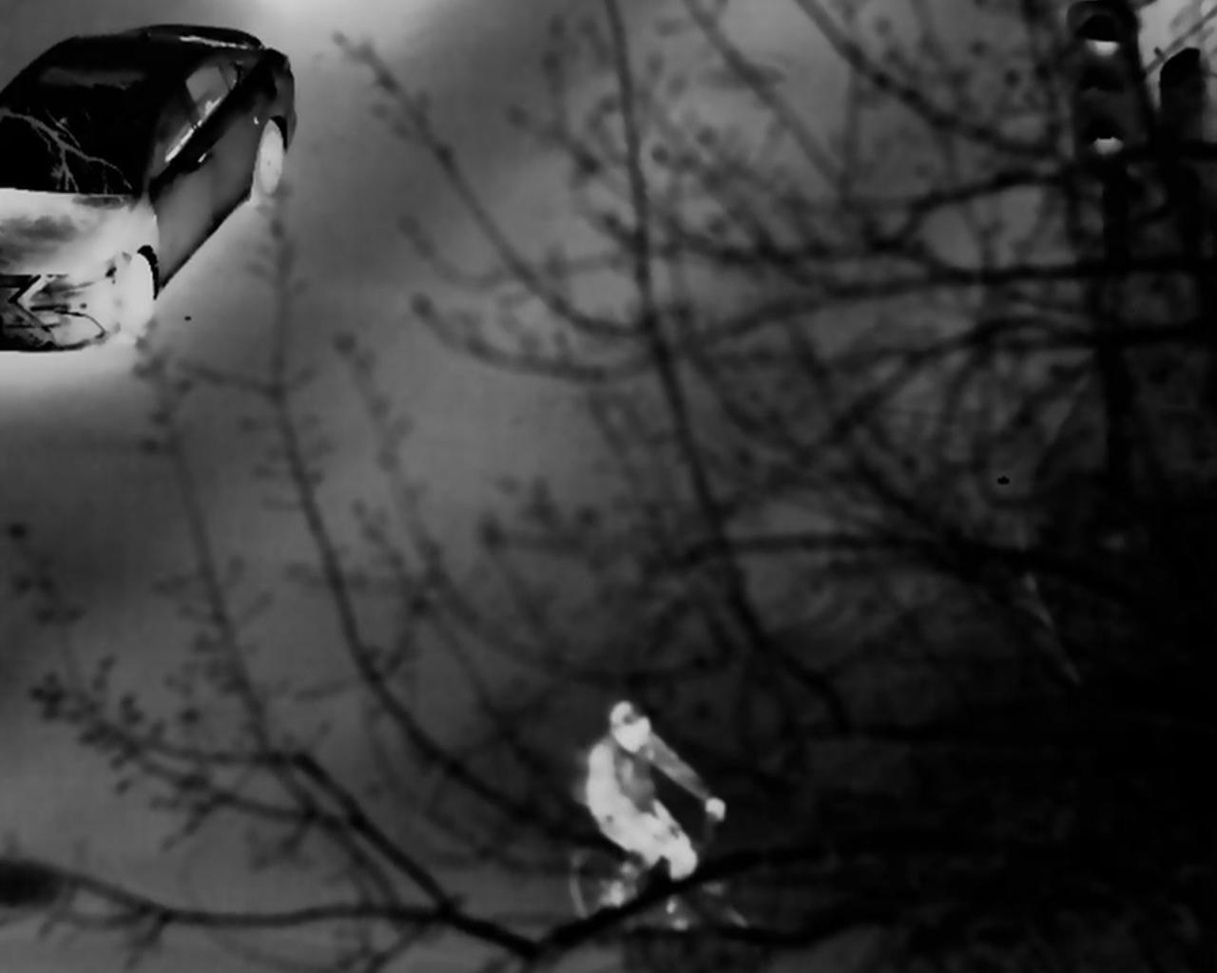person: (572, 695, 726, 890)
